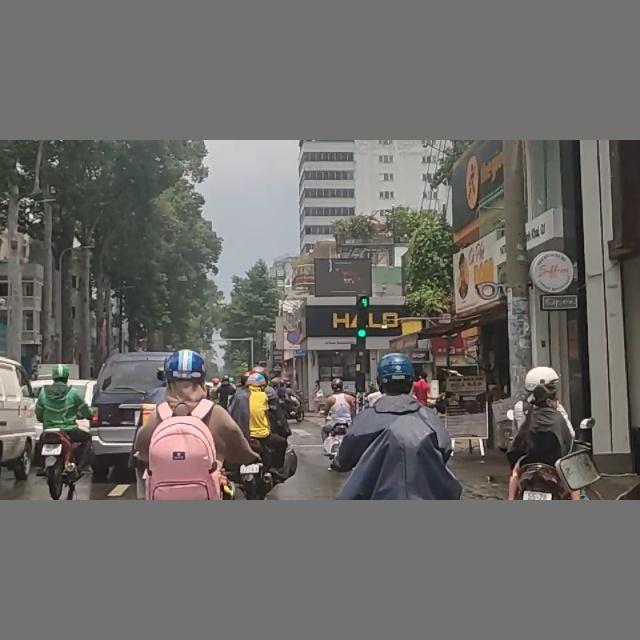P.131a: (287, 329, 302, 343)
